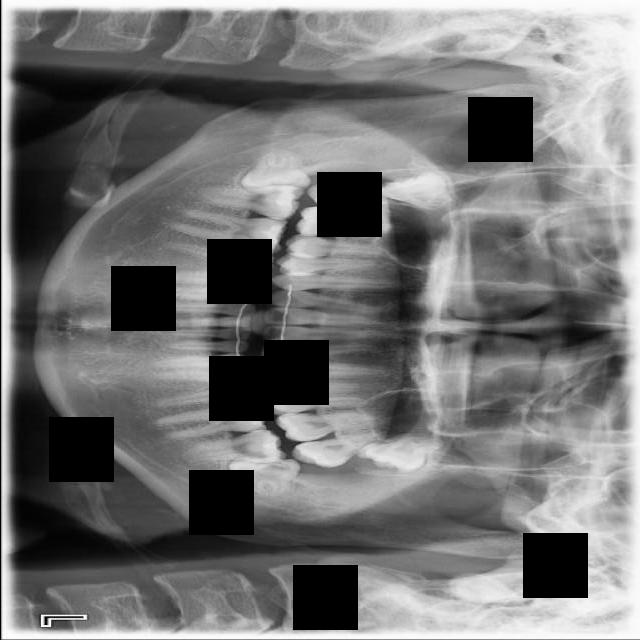3M ESPE Implant: (374, 159, 461, 217)
73: (51, 611, 65, 618)
BioHorizons Implant: (289, 428, 390, 474)
BioLife Implant: (356, 435, 442, 477)
Biomet 3i Implant: (224, 451, 300, 500)
Blue Sky Bio Implant: (179, 428, 286, 464)
Caries: (303, 170, 416, 223)
Implant: (193, 172, 304, 223)
Keystone Dental Implant: (240, 152, 312, 194)
